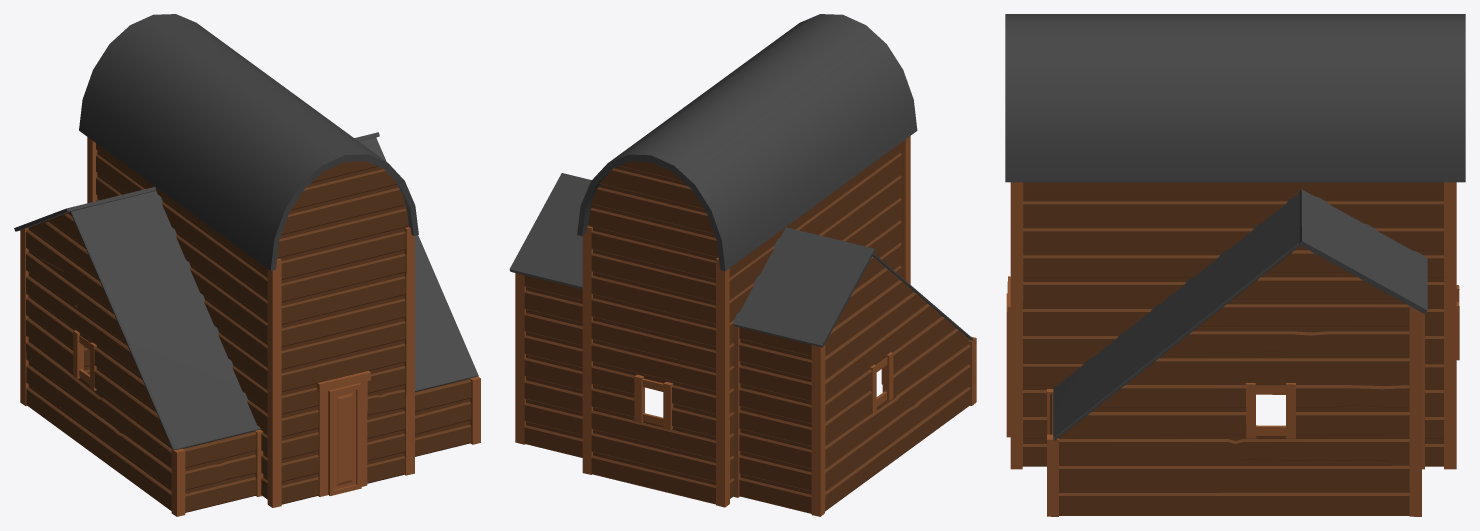
Rendered from Roundhouse-M01A.fbx.
The picture shows the model from 3 angles, left to right: view 1: azimuth 30°, elevation 25°; view 2: azimuth 150°, elevation 25°; view 3: azimuth 270°, elevation 25°; orthographic projection. The views are drawn at different scales.
Parts seen in each view (by area): view 1: whole; view 2: whole; view 3: whole.
Part boxes in pixels (x1,y1,x2,y2): whole: (14, 14, 480, 516); whole: (509, 14, 976, 516); whole: (1005, 14, 1465, 516).
Size of the model in its own units: 429 by 444 by 456.
